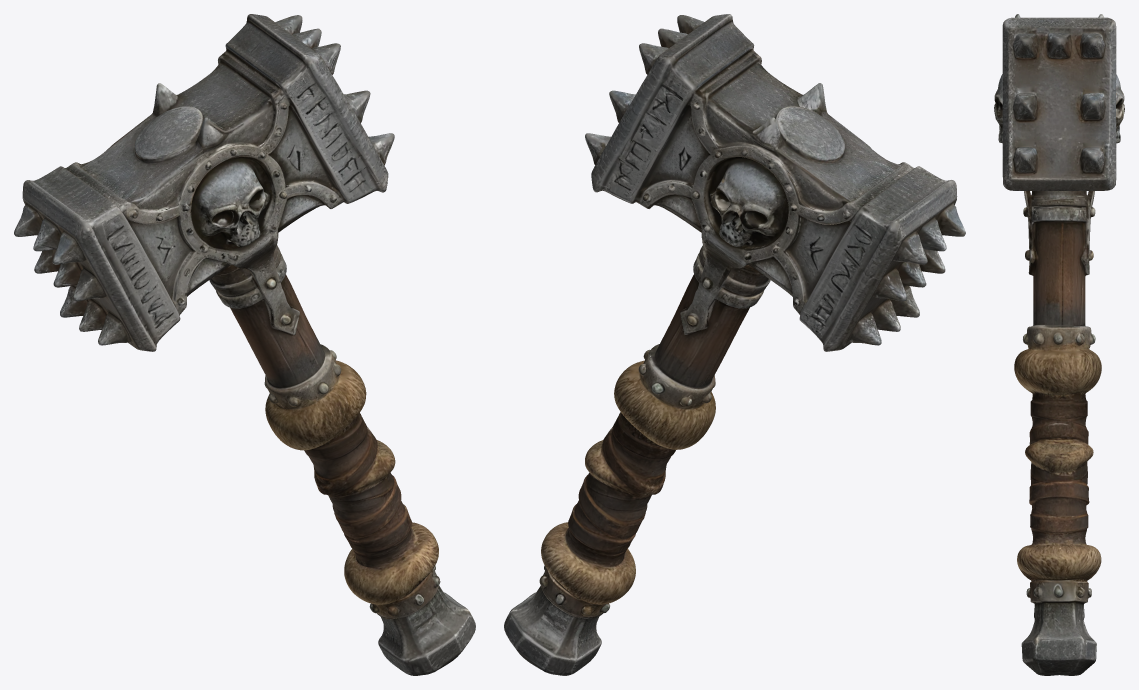
Rendered from weapon_titanic_hammer.glb.
The picture shows the model from 3 angles, left to right: view 1: azimuth 30°, elevation 25°; view 2: azimuth 150°, elevation 25°; view 3: azimuth 270°, elevation 25°; orthographic projection. The views are drawn at different scales.
Visible parts, largest first — view 1: material; view 2: material; view 3: material.
Part boxes in pixels (x1,y1,x2,y2): material: (14, 14, 475, 675); material: (504, 14, 965, 675); material: (994, 14, 1124, 675).
Size of the model in its own units: 0.7106 by 1.05 by 0.2091.
Materials: 1 (1 with a texture image).
